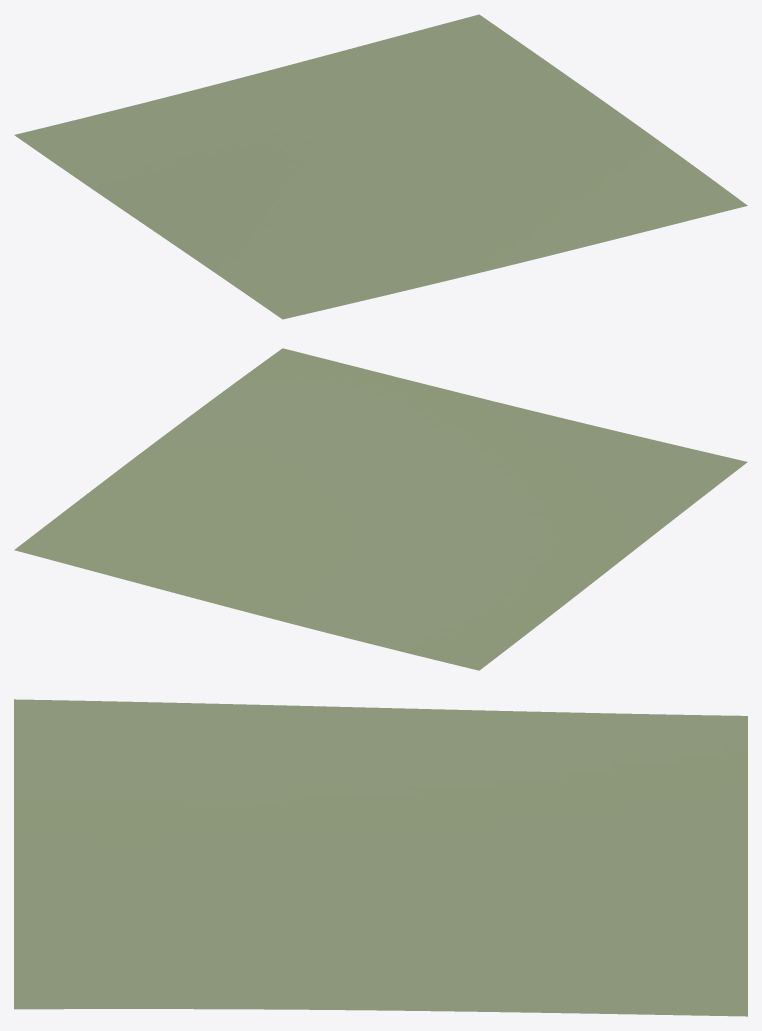
Rendered from expanse-9-17.glb.
3 views of the same model, one above another, from view 1: azimuth 30°, elevation 25°; view 2: azimuth 150°, elevation 25°; view 3: azimuth 270°, elevation 25° (orthographic). The views are drawn at different scales.
Visible parts, largest first — view 1: expanse-9-17; view 2: expanse-9-17; view 3: expanse-9-17.
Boxes of the visible parts, x1,y1,x2,y2 form: expanse-9-17: [14, 14, 747, 319]; expanse-9-17: [14, 348, 747, 670]; expanse-9-17: [14, 699, 747, 1016].
Size of the model in its own units: 256 by 6.6 by 256.
